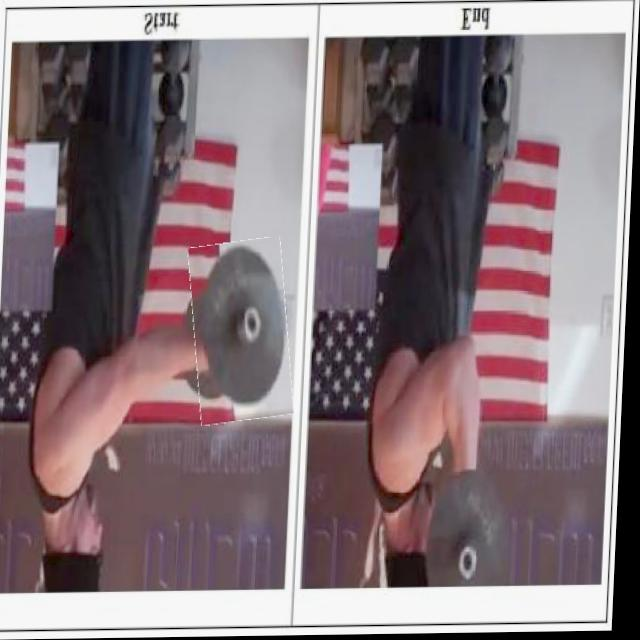barbell: (191, 240, 300, 425)
